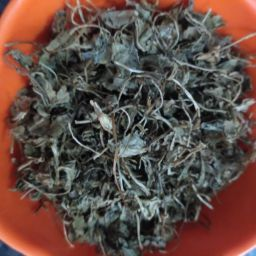Fenugeek (dried): (102, 10, 256, 207), (38, 3, 189, 169), (77, 100, 204, 256), (6, 39, 88, 207)
